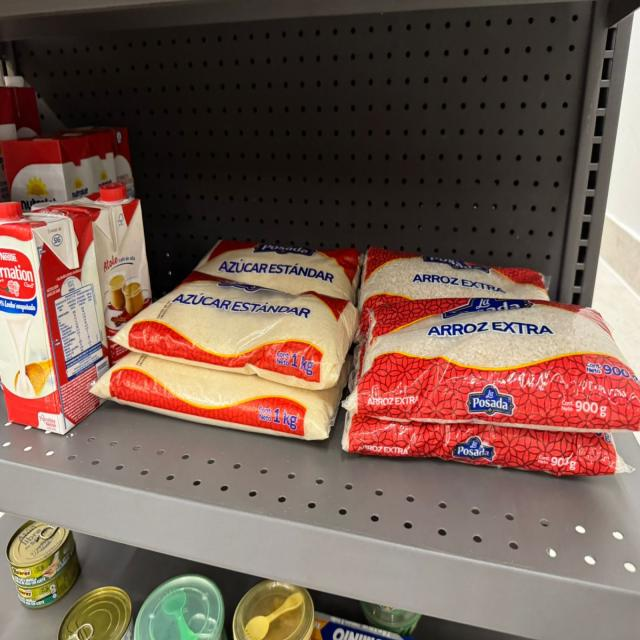ATUN DOLORES EN ACEITE 130GRS: (4, 519, 77, 589), (15, 547, 82, 610)
Arroz La Posada 900 gr: (341, 297, 640, 432), (343, 412, 633, 477), (354, 245, 552, 338)
Atun Mazatun Agua Sin Soya 130grs: (57, 582, 135, 639)
Azucar Estandar La Posada 1 kg: (108, 270, 357, 391), (86, 352, 353, 439), (194, 238, 363, 303)
CARNATION Leche Evaporada 720g: (46, 181, 153, 367)
Dolores SURFY Cup Can Elotitos 24135 gr: (232, 579, 317, 639)
Ensalada Atun Mazatun CupCan: (133, 571, 227, 639), (360, 602, 421, 635)
PLC NUTRALAT FORTE 1 LT: (1, 134, 94, 212), (40, 127, 118, 192), (69, 126, 135, 197)
PLC NUTRALAT FORTE 1.5 LT: (5, 76, 40, 138), (0, 85, 17, 141), (0, 141, 9, 202)
Papel aluminio festivo rollo 76 m X 30 cm pz: (311, 613, 403, 639)
